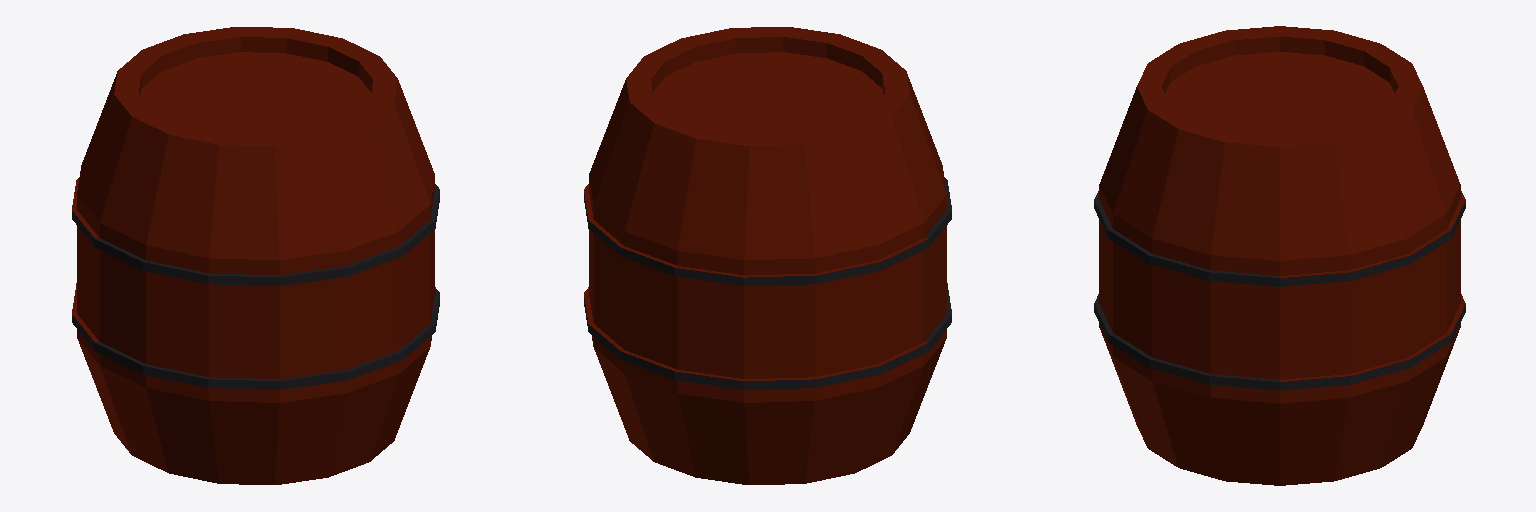
Rendered from barrel.obj.
3 renders of one model, left to right at view 1: azimuth 30°, elevation 25°; view 2: azimuth 150°, elevation 25°; view 3: azimuth 270°, elevation 25°, orthographic.
Parts seen in each view (by area): view 1: Cylinder; view 2: Cylinder; view 3: Cylinder.
Boxes of the visible parts, box(x1,y1,x2,y2) form: Cylinder: box(72, 27, 439, 484); Cylinder: box(584, 27, 951, 484); Cylinder: box(1094, 26, 1465, 485).
Size of the model in its own units: 1.3 by 1.31 by 1.3.